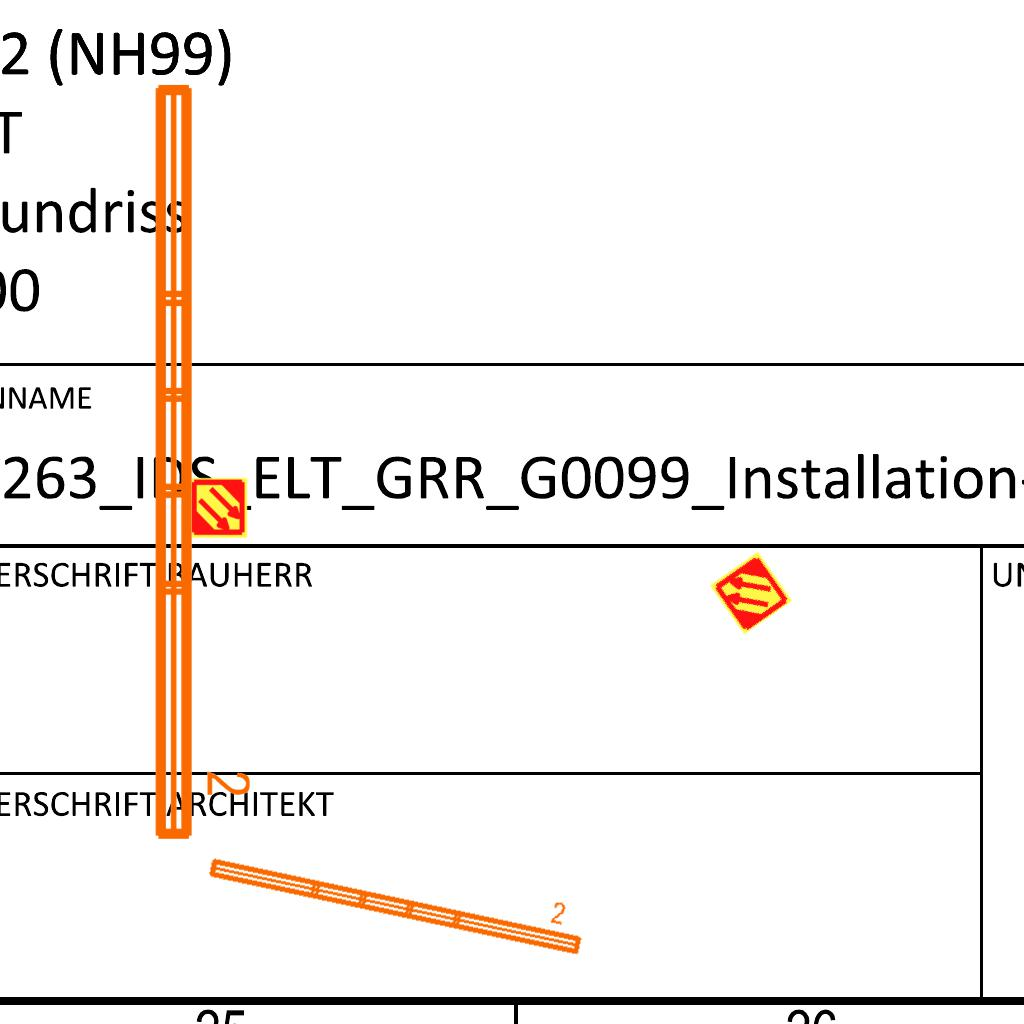ASR_Ansaugrauchmelder: (707, 549, 795, 637), (187, 477, 249, 539)
Ambulanz_Pendelleuchte_LED: (143, 74, 255, 848), (202, 826, 593, 962)
